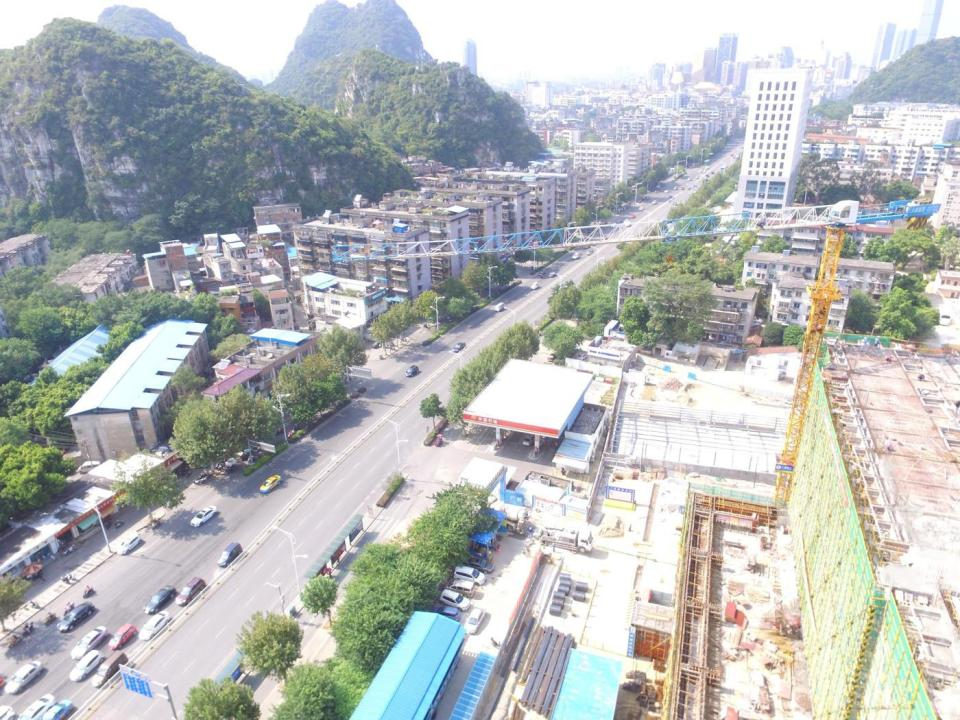bus: (720, 165, 728, 172), (703, 159, 710, 165)
car: (4, 660, 44, 695), (70, 626, 108, 660), (57, 601, 95, 632), (69, 650, 104, 682), (16, 694, 56, 720), (138, 610, 170, 640), (143, 586, 176, 614), (176, 577, 206, 606), (108, 623, 136, 650), (41, 698, 74, 720), (439, 589, 471, 610), (452, 565, 486, 584), (190, 504, 218, 527), (464, 607, 485, 634), (117, 533, 142, 555), (465, 558, 494, 574), (430, 606, 460, 620), (260, 475, 282, 494), (0, 705, 15, 720), (522, 433, 535, 446), (405, 365, 419, 377), (454, 342, 466, 353), (576, 352, 588, 360), (752, 316, 763, 323), (548, 353, 556, 362), (530, 283, 539, 290), (572, 253, 579, 260), (586, 249, 594, 255), (538, 270, 545, 276), (625, 221, 631, 228), (548, 272, 556, 277), (582, 244, 590, 249), (615, 218, 621, 224), (638, 206, 644, 211), (622, 219, 629, 223), (611, 223, 616, 228), (651, 200, 657, 204), (630, 214, 635, 218), (704, 166, 709, 170), (664, 190, 668, 194), (695, 175, 699, 179), (698, 169, 702, 173), (703, 169, 706, 173)
truck: (534, 524, 593, 554), (484, 496, 530, 533)
van: (92, 650, 129, 688), (217, 541, 243, 567), (446, 579, 476, 597), (494, 302, 504, 312)
